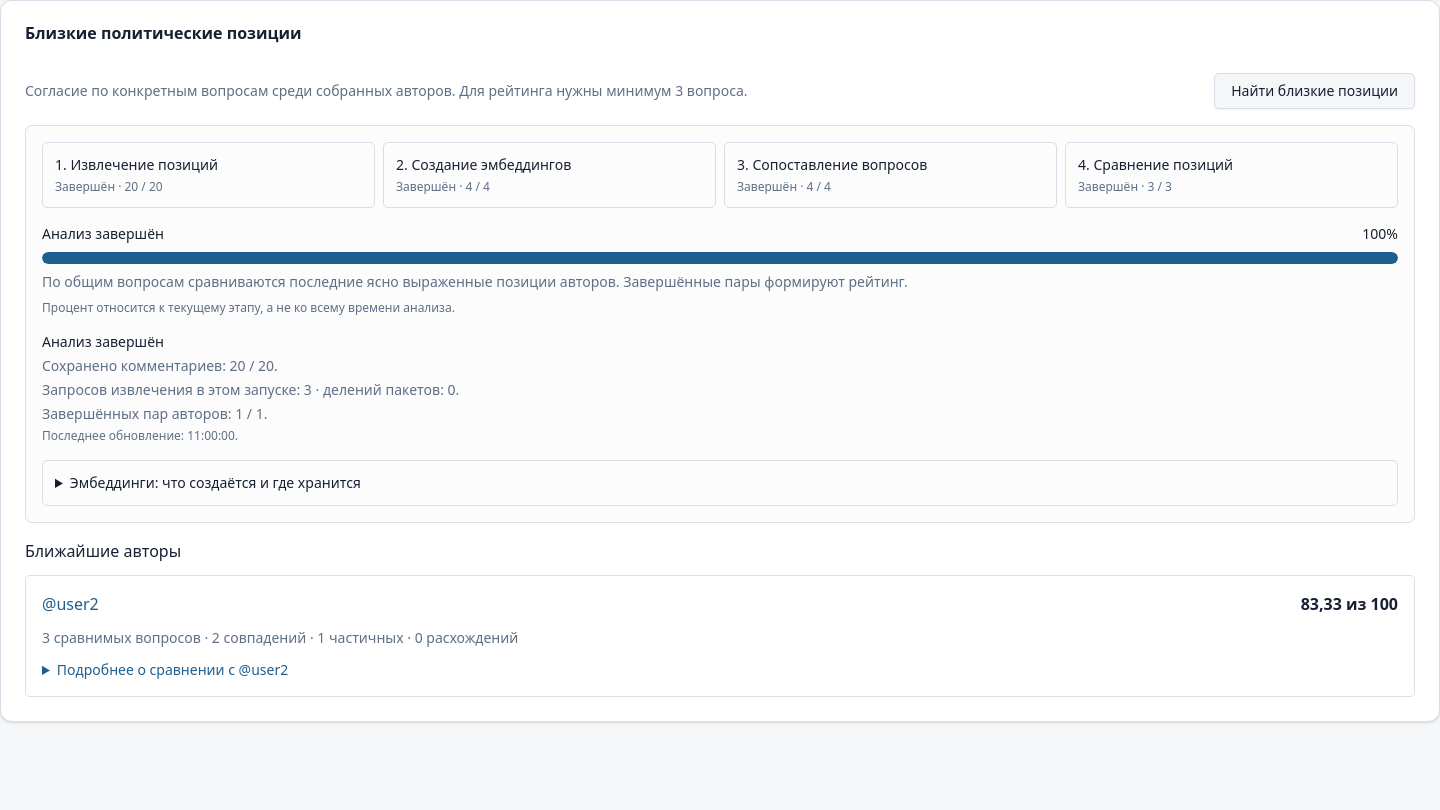
it: shows agreement coverage and original statements in pair details
Expected: the link "@user2" is shown, [42,592,99,616]
Expected: the text "83,33 из 100" is shown, [1301,592,1398,616]
Click the heading "Подробнее о сравнении с @user2": (172, 670) [57,660,288,679]
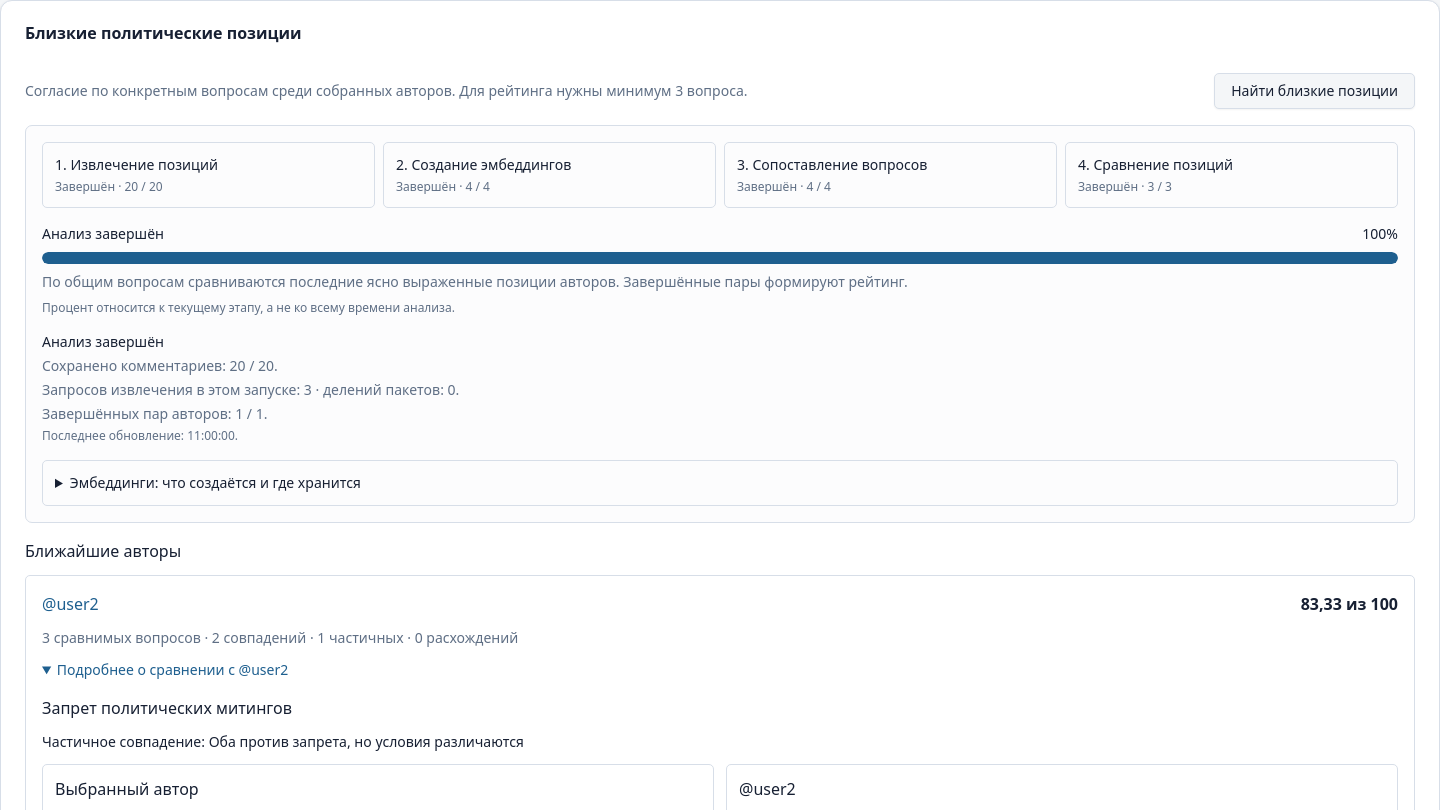
Expected: the text "Оба против запрета, но условия различаются" is shown, [209,732,524,751]
